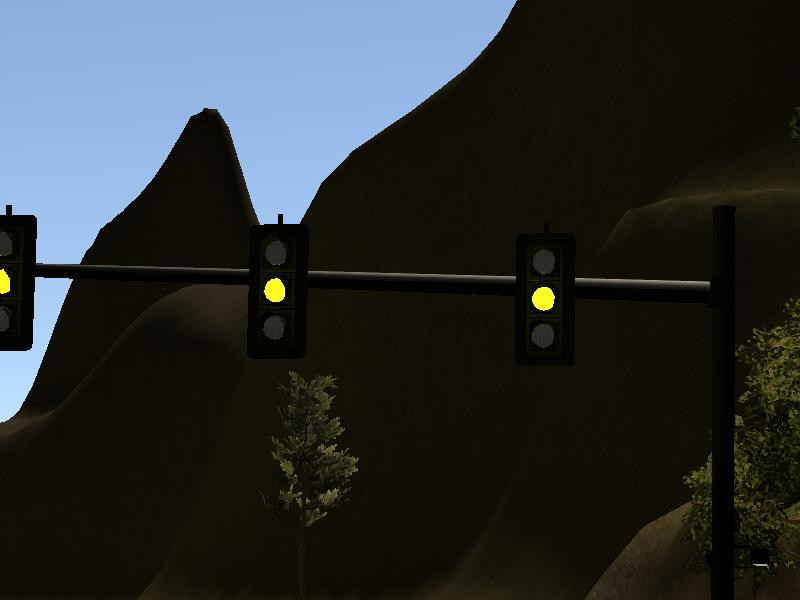Yellow: (514, 234, 574, 367), (248, 224, 306, 361), (1, 213, 38, 350)
